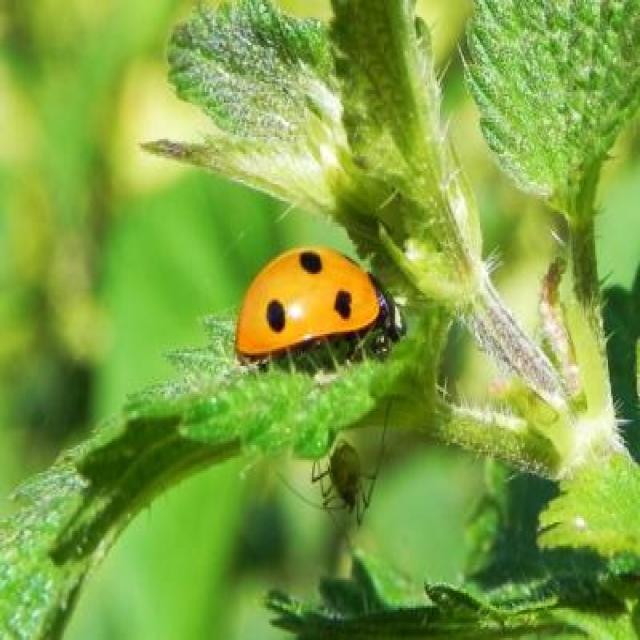body: (240, 248, 399, 357)
insect: (238, 245, 404, 364)
legs: (242, 252, 378, 360), (254, 336, 409, 373)
wings: (240, 247, 378, 360)
